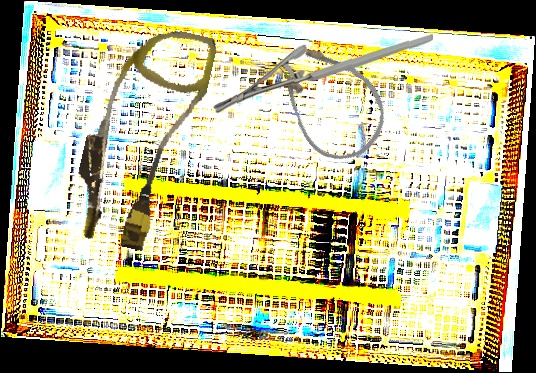Cannula: (64, 15, 219, 258), (257, 24, 403, 176)
Needle Holder: (213, 30, 433, 119)
